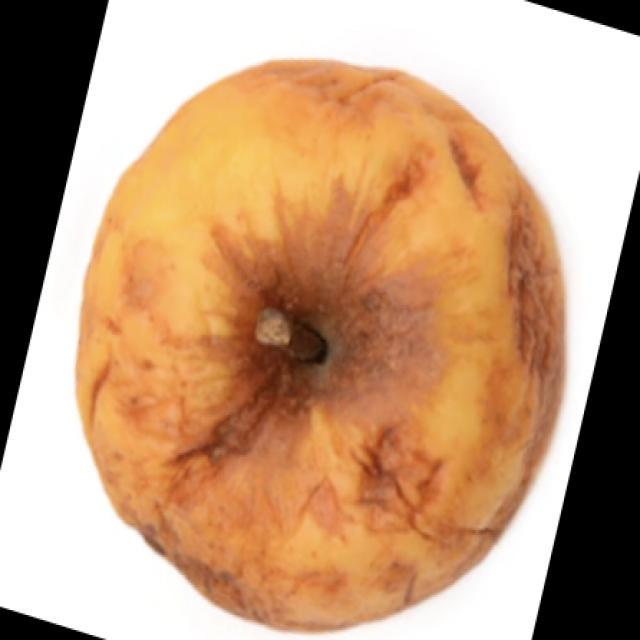Rotten: (98, 53, 560, 640)
